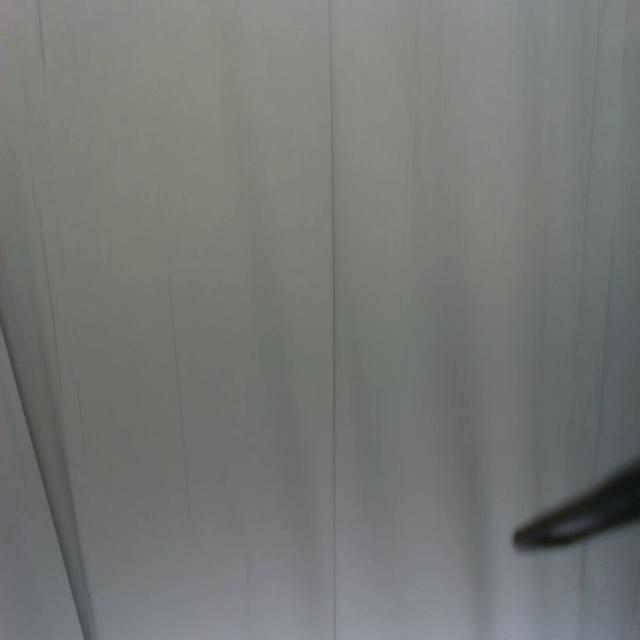crease: (0, 312, 89, 640), (564, 0, 605, 427), (323, 0, 339, 638), (584, 225, 619, 479), (30, 181, 64, 395), (164, 272, 188, 464), (32, 0, 50, 89)
